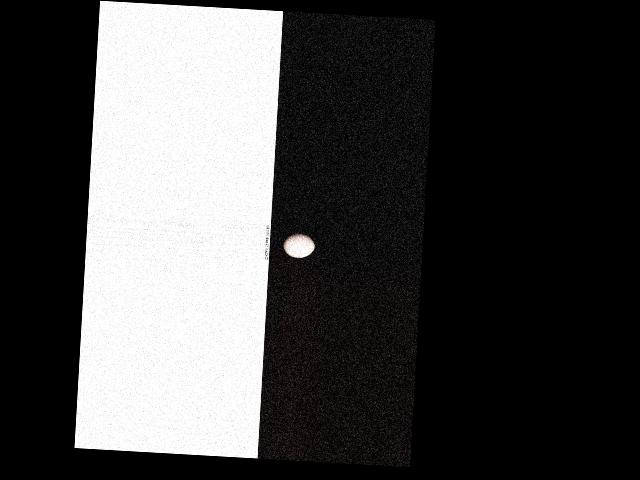egg: (281, 232, 315, 258)
